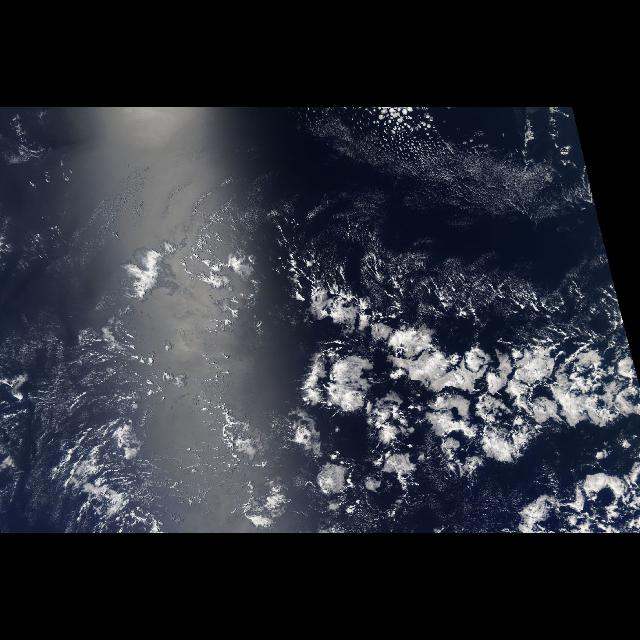Flower: (291, 271, 639, 523)
Sugar: (304, 108, 596, 222), (11, 313, 176, 471)
